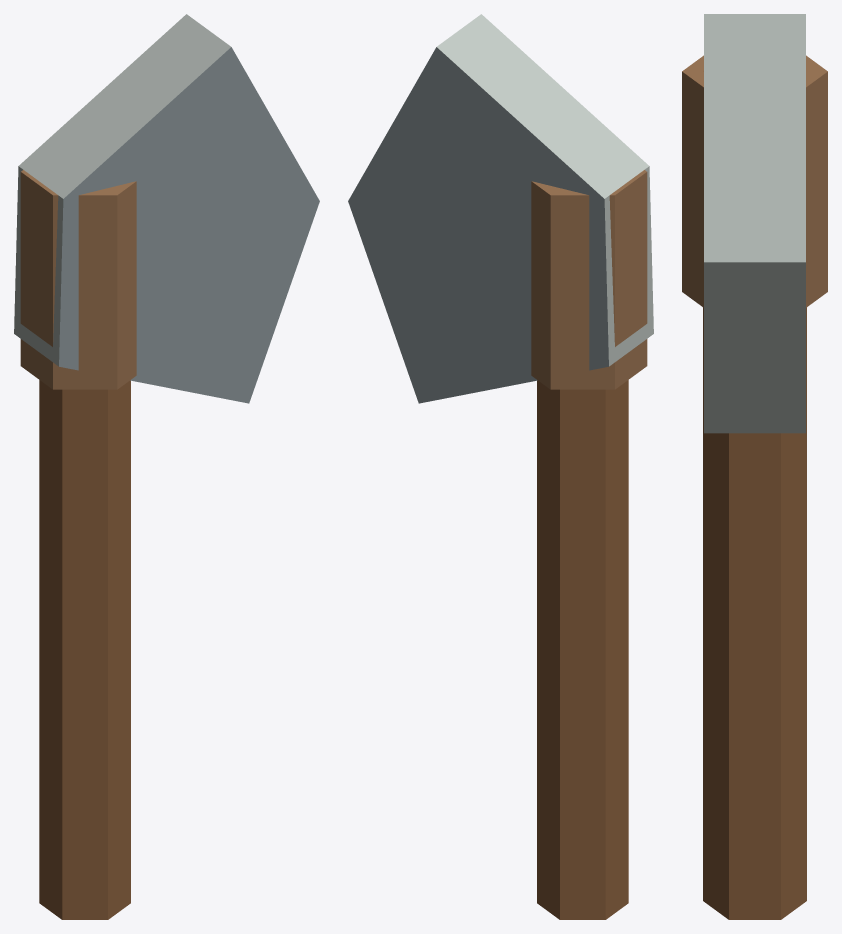
Rendered from axe.glb.
3 views of the same model, side by side, from view 1: azimuth 30°, elevation 25°; view 2: azimuth 150°, elevation 25°; view 3: azimuth 270°, elevation 25° (orthographic). The views are drawn at different scales.
Visible parts, largest first — view 1: axe; view 2: axe; view 3: axe.
Part boxes in pixels (x1,y1,x2,y2): axe: (14, 14, 319, 919); axe: (348, 14, 653, 919); axe: (682, 14, 827, 919).
Size of the model in its own units: 0.295 by 0.91 by 0.126.
